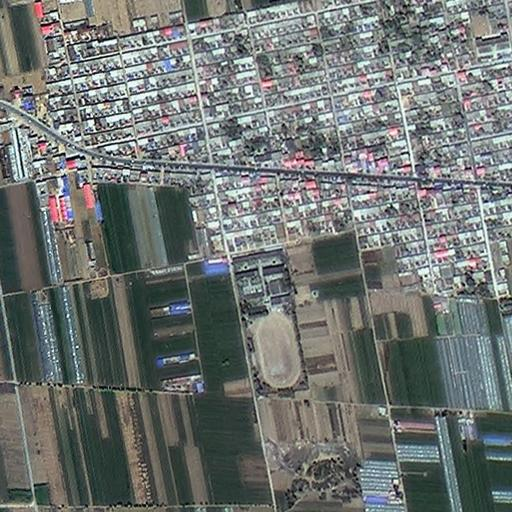school: (228, 247, 305, 398)
